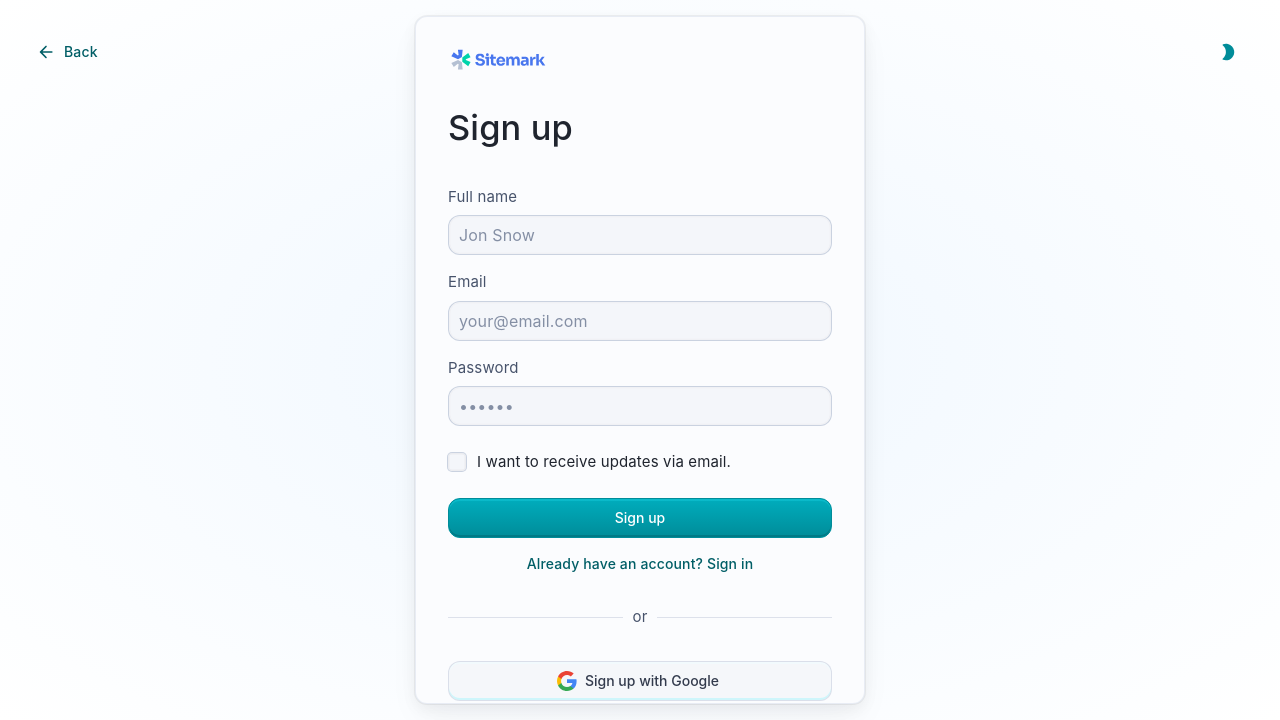
Test case: SignUp › data validation › Full Name field › does not allow empty input
Click the button "Sign up".
click(640, 518)  # box [448,498,832,538]
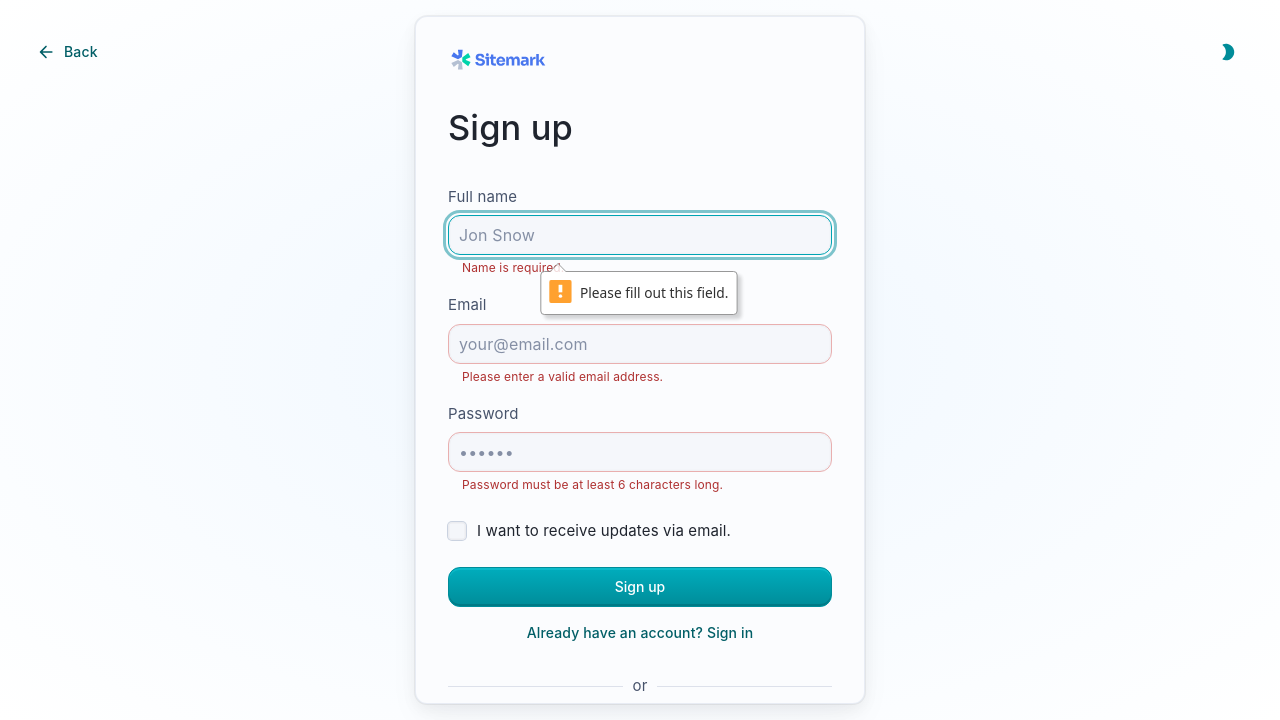
Now the text "Name is required." is shown, box [462,260,564,275]
